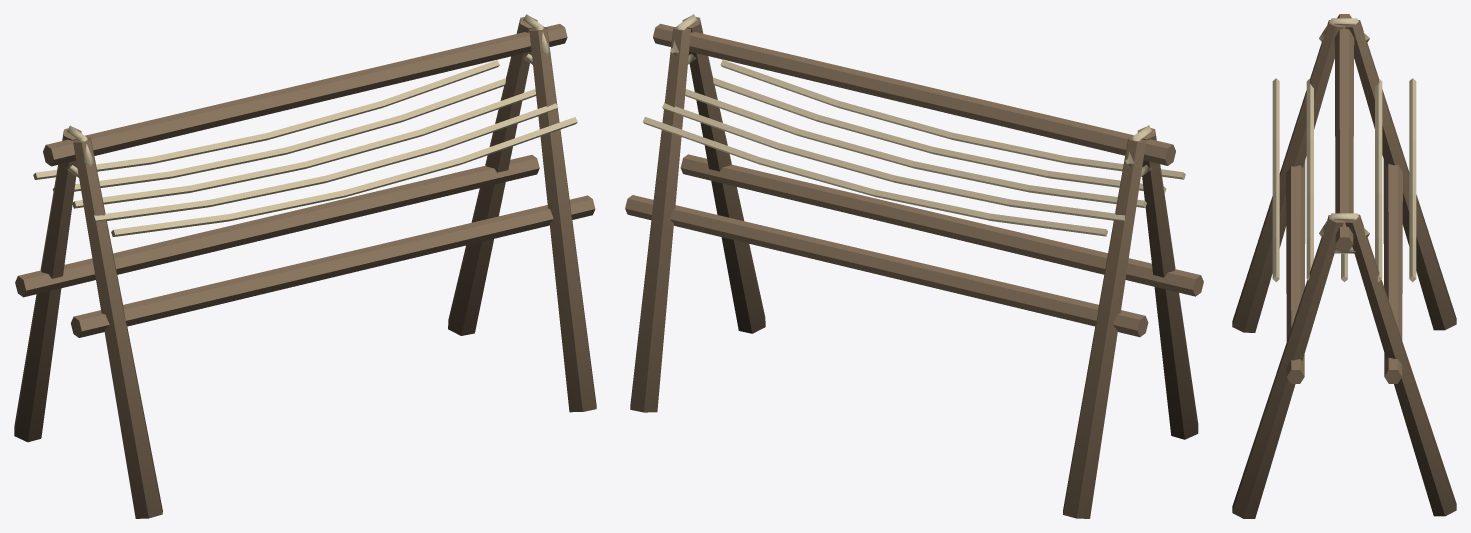
Rendered from stack_fish_rack.glb.
3 views of the same model, side by side, from view 1: azimuth 30°, elevation 25°; view 2: azimuth 150°, elevation 25°; view 3: azimuth 270°, elevation 25° (orthographic). The views are drawn at different scales.
Visible parts, largest first — view 1: stack_fish_rack; view 2: stack_fish_rack; view 3: stack_fish_rack.
Boxes of the visible parts, left/top/right/bottom form: stack_fish_rack: left=14, top=14, right=596, bottom=518; stack_fish_rack: left=625, top=14, right=1203, bottom=518; stack_fish_rack: left=1232, top=14, right=1456, bottom=518.
Size of the model in its own units: 3.2 by 2.08 by 1.38.
